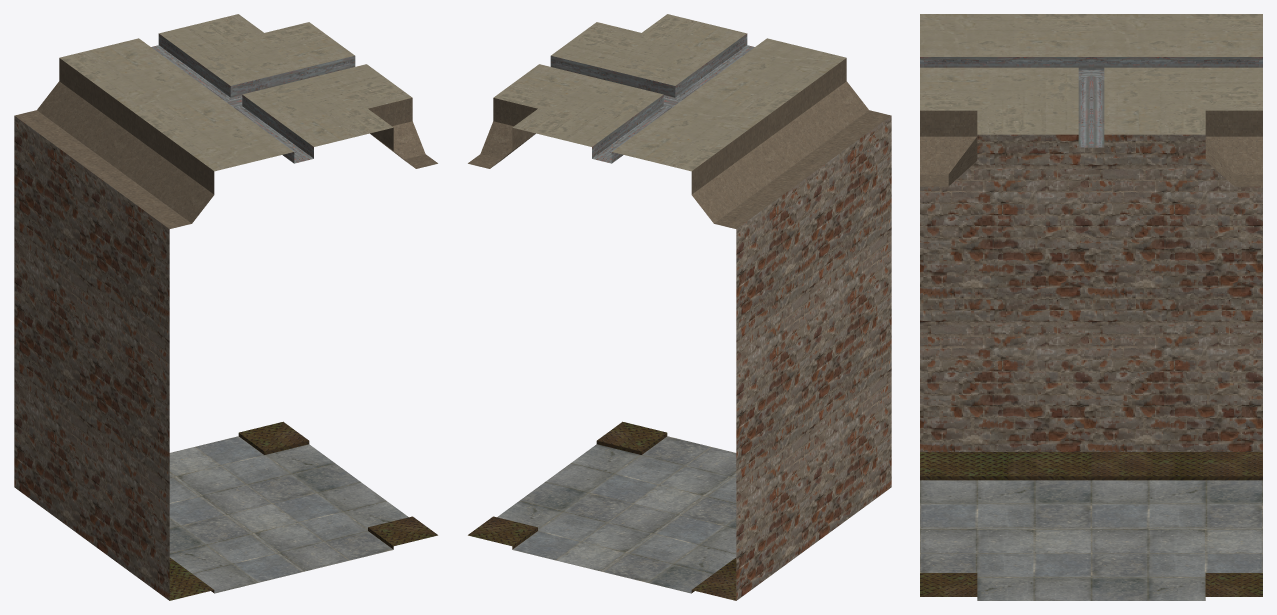
File: 3x3_threeway_hallway.fbx
3 renders of one model, left to right at view 1: azimuth 30°, elevation 25°; view 2: azimuth 150°, elevation 25°; view 3: azimuth 270°, elevation 25°, orthographic. The views are drawn at different scales.
Visible parts, largest first — view 1: 3x3ThreeWayHallwayModel; view 2: 3x3ThreeWayHallwayModel; view 3: 3x3ThreeWayHallwayModel.
Boxes of the visible parts, bbox=[...] form: 3x3ThreeWayHallwayModel: bbox=[14, 14, 437, 600]; 3x3ThreeWayHallwayModel: bbox=[468, 14, 891, 600]; 3x3ThreeWayHallwayModel: bbox=[920, 14, 1262, 600].
Size of the model in its own units: 300 by 450 by 300.
